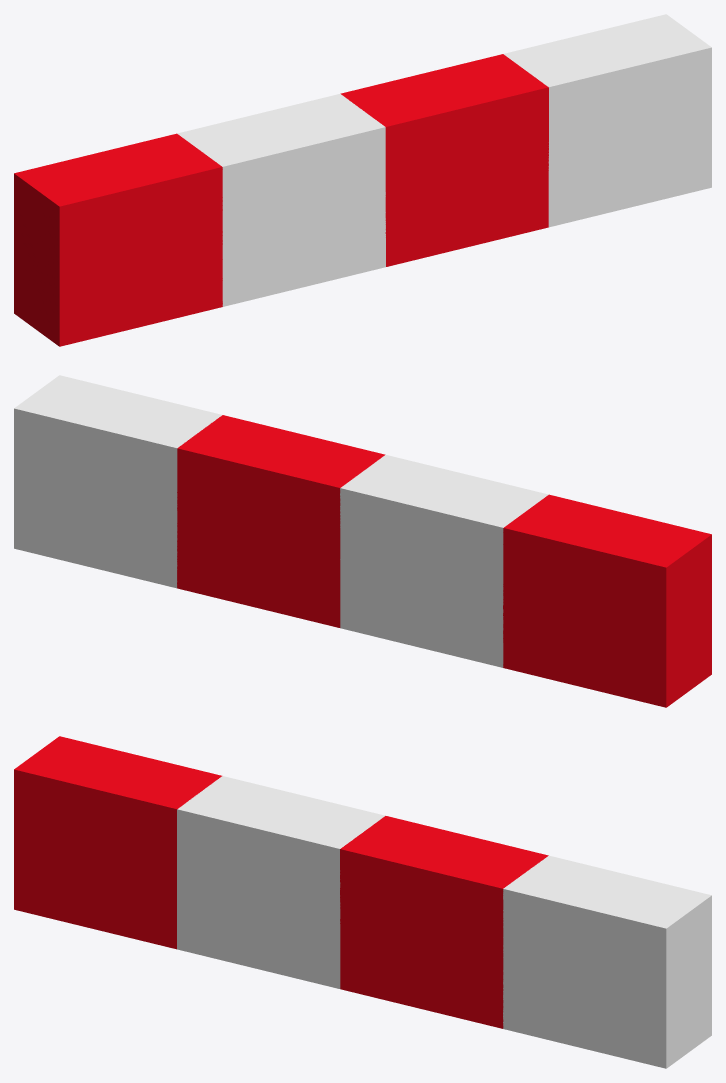
File: barrier.fbx
The picture shows the model from 3 angles, top to bottom: view 1: azimuth 30°, elevation 25°; view 2: azimuth 150°, elevation 25°; view 3: azimuth 330°, elevation 25°; orthographic projection.
Visible parts, largest first — view 1: Cube; view 2: Cube; view 3: Cube.
Boxes of the visible parts, box(x1,y1,x2,y2) form: Cube: box(14, 14, 711, 346); Cube: box(14, 375, 711, 707); Cube: box(14, 736, 711, 1068).
Size of the model in its own units: 711 by 146 by 86.
